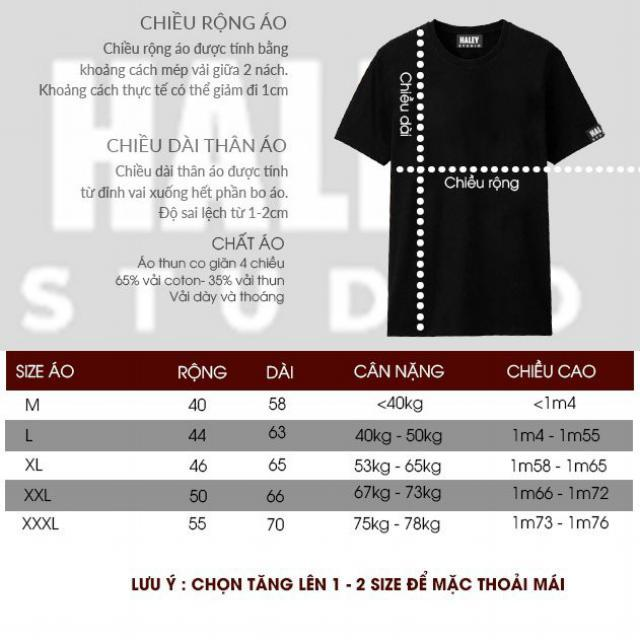Shirt: (329, 14, 612, 342)
